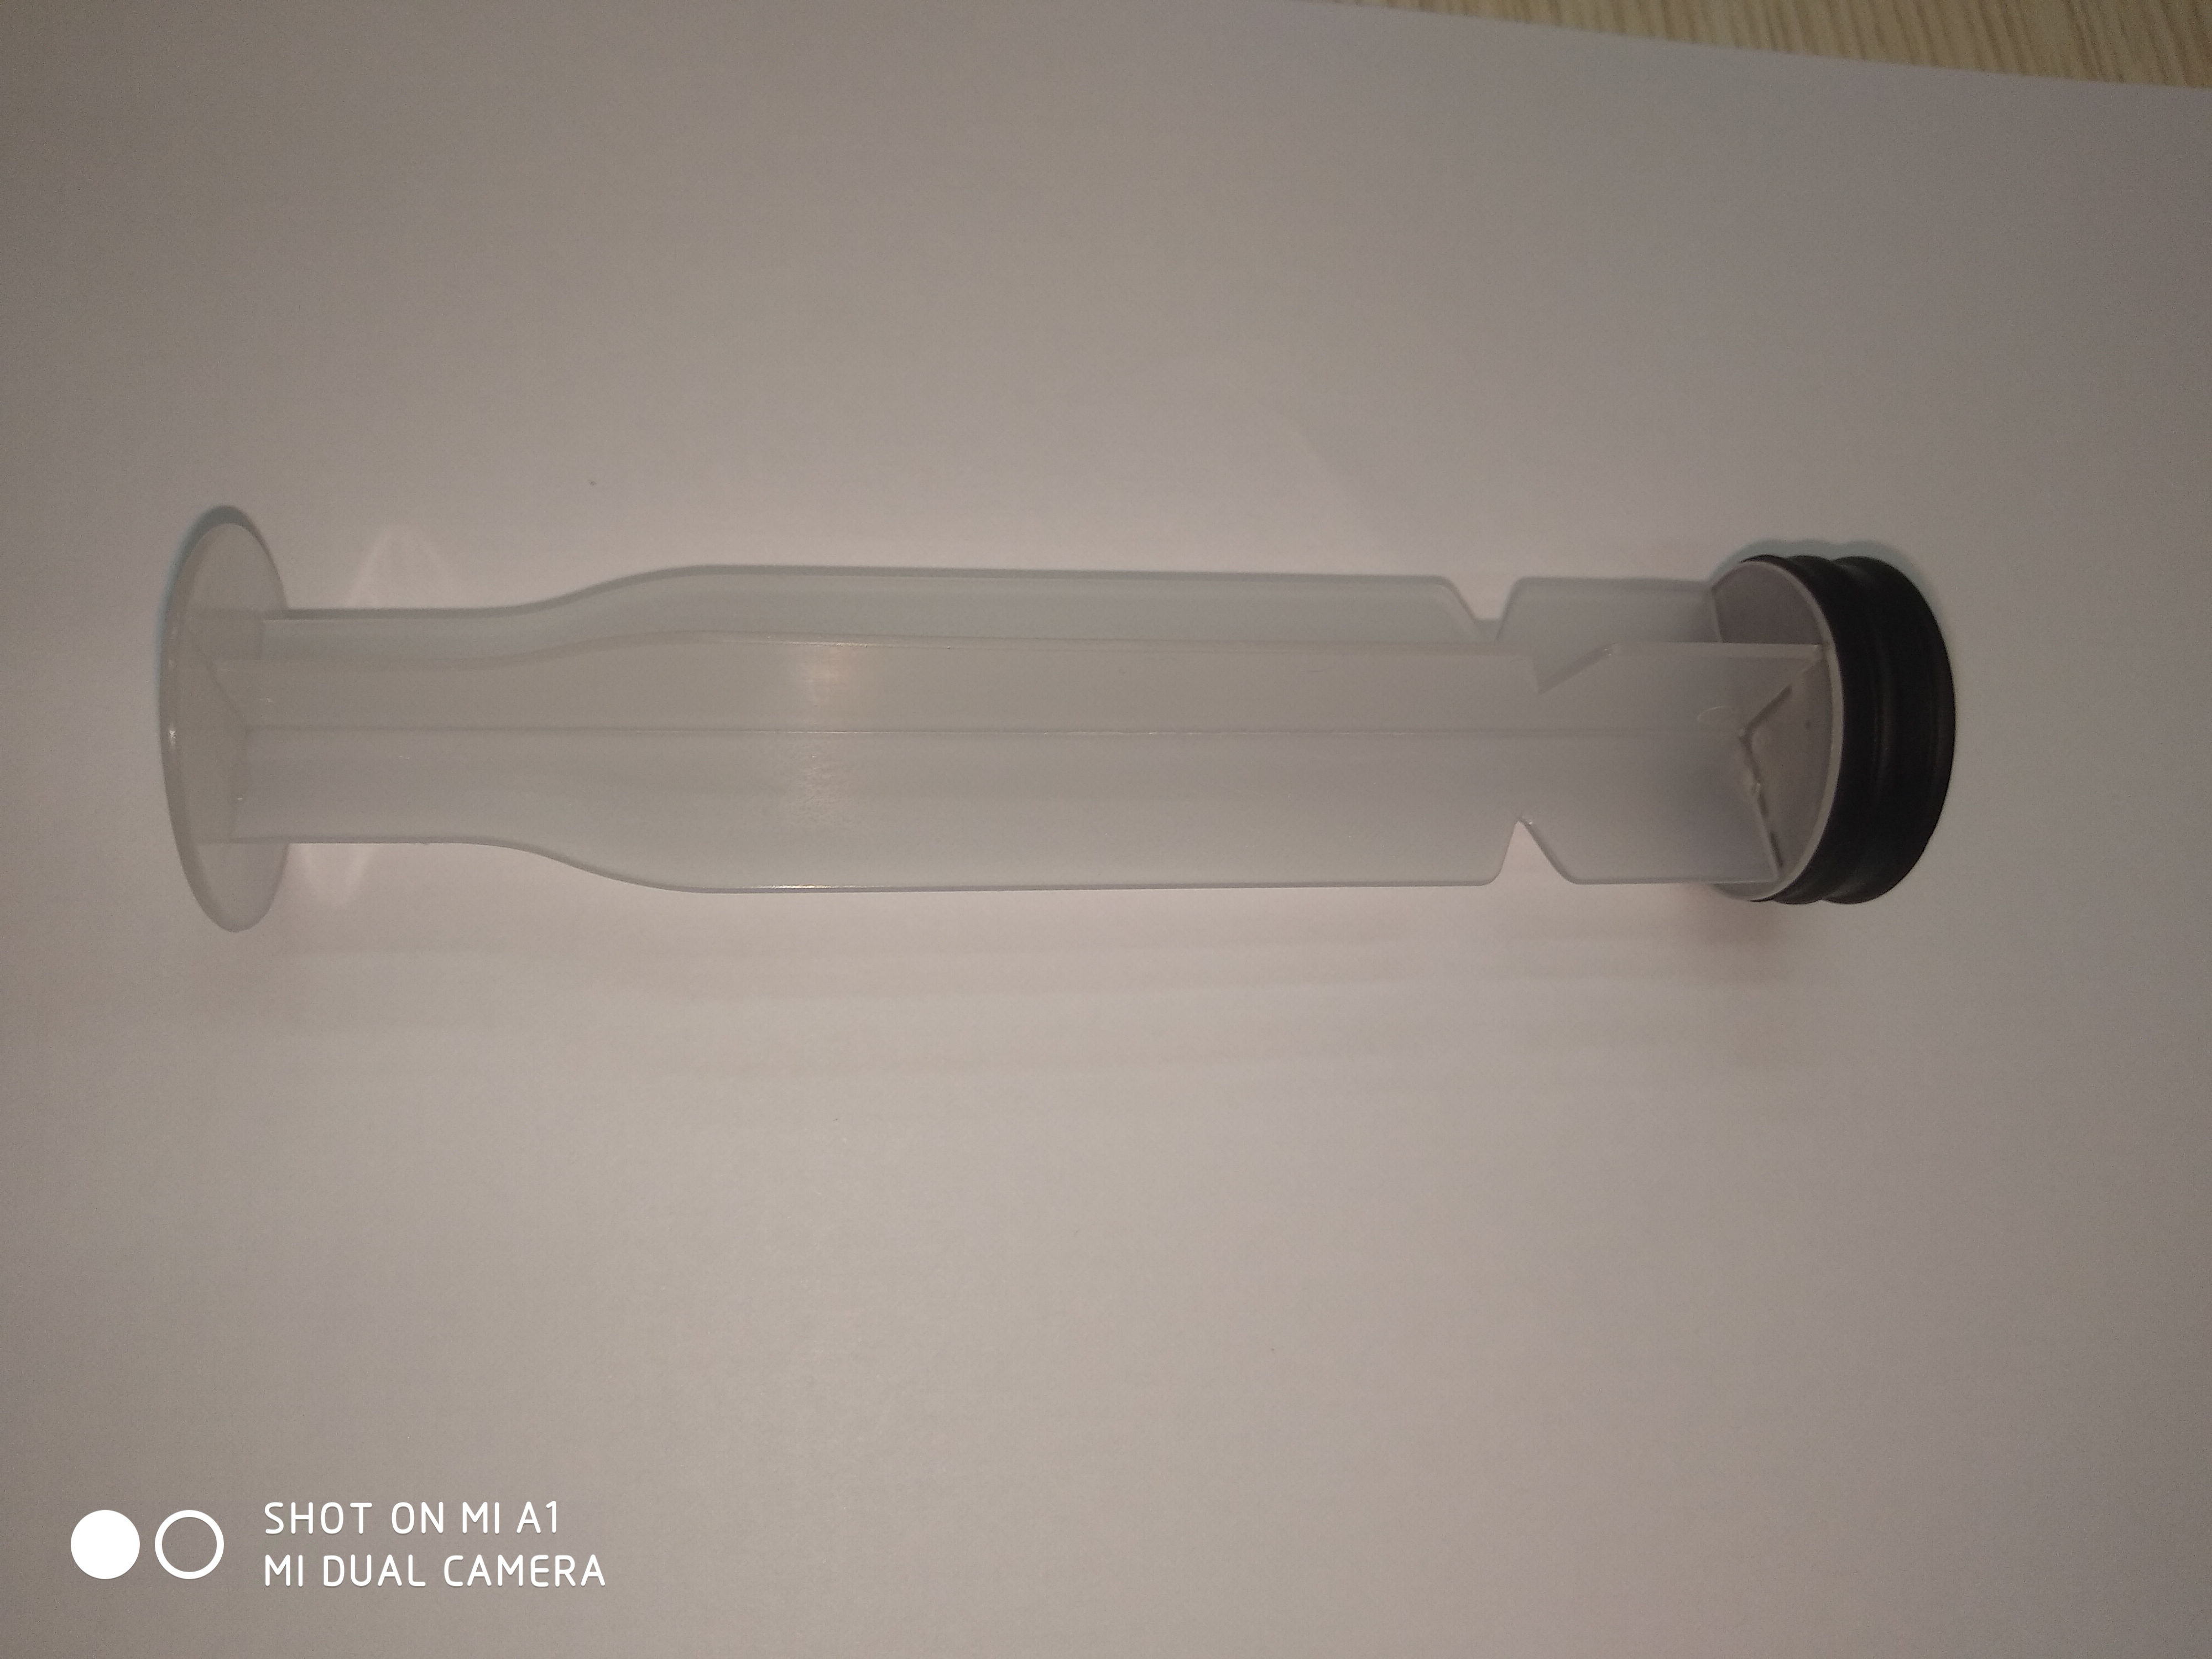plunger: (146, 502, 1963, 945)
